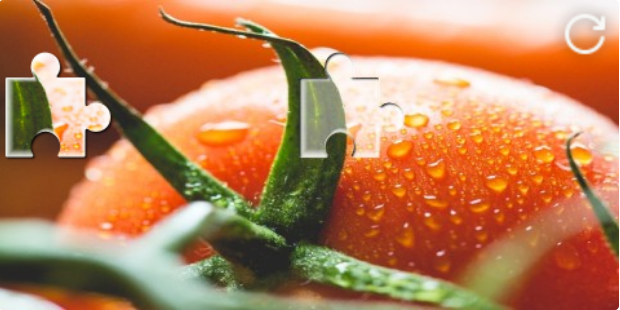target: (300, 52, 403, 158)
